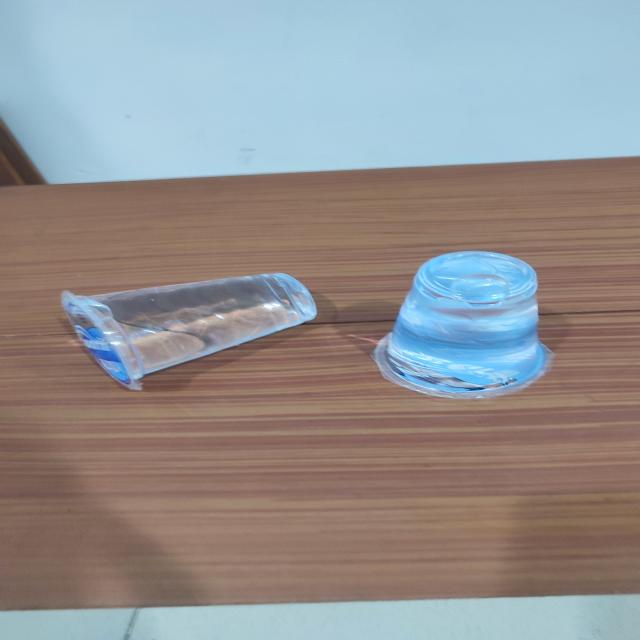air gelas: (48, 262, 331, 395), (367, 245, 576, 405)
